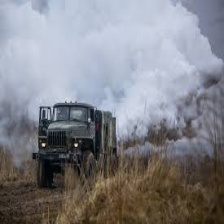smoke: (2, 1, 224, 152)
